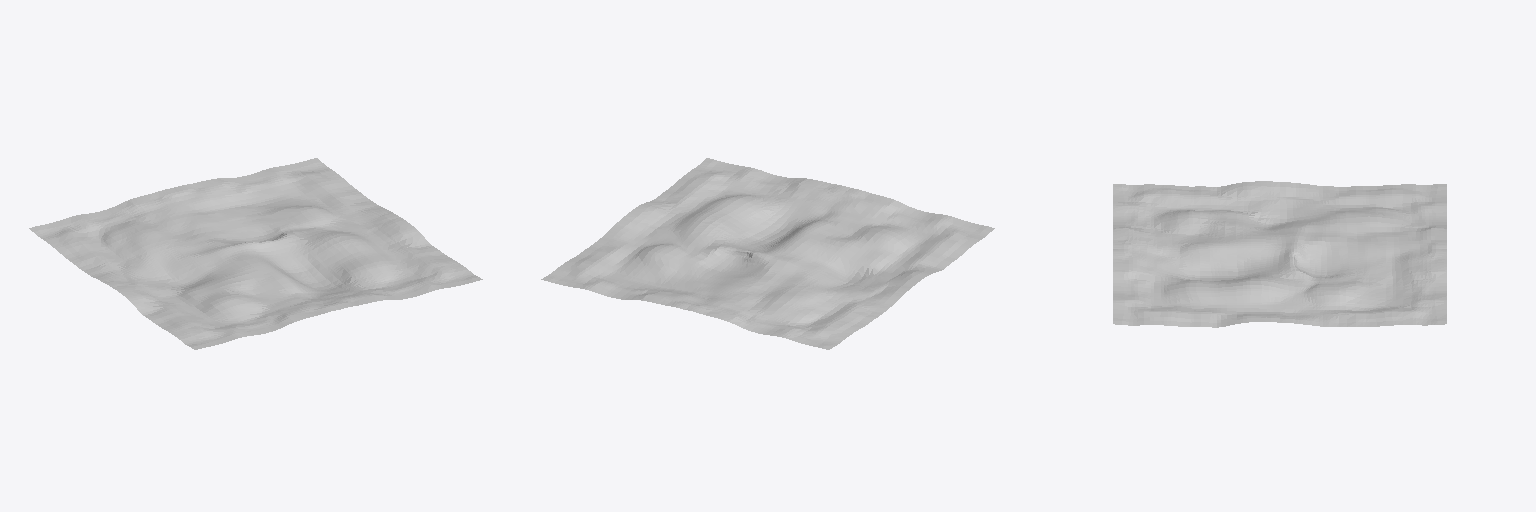
Rendered from ground_model6.obj.
The picture shows the model from 3 angles: view 1: azimuth 30°, elevation 25°; view 2: azimuth 150°, elevation 25°; view 3: azimuth 270°, elevation 25°; orthographic projection.
Parts seen in each view (by area): view 1: pPlane21; view 2: pPlane21; view 3: pPlane21.
Part boxes in pixels (x1,y1,x2,y2): pPlane21: (29,158,482,349); pPlane21: (541,158,994,349); pPlane21: (1113,181,1446,327).
Size of the model in its own units: 248 by 13.72 by 248.